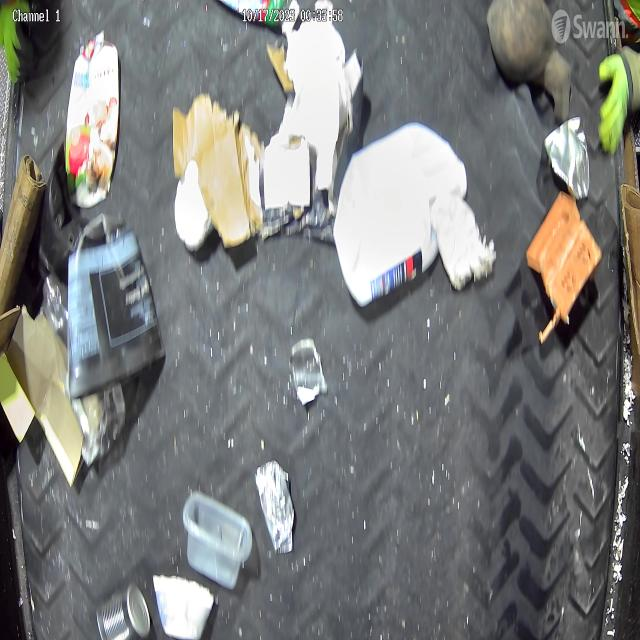can: (544, 115, 590, 200), (95, 583, 151, 640)
milk_jug: (334, 122, 467, 305)
non_white_jug: (68, 212, 166, 400), (65, 30, 119, 208)
